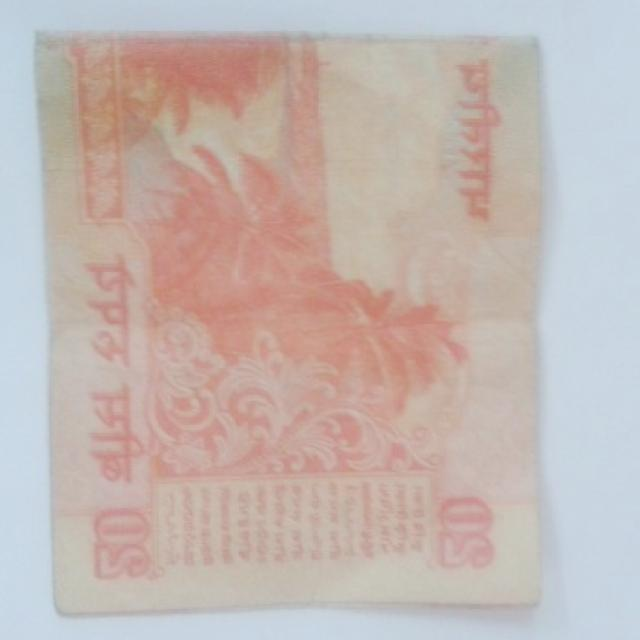20rs: (51, 34, 541, 613)
